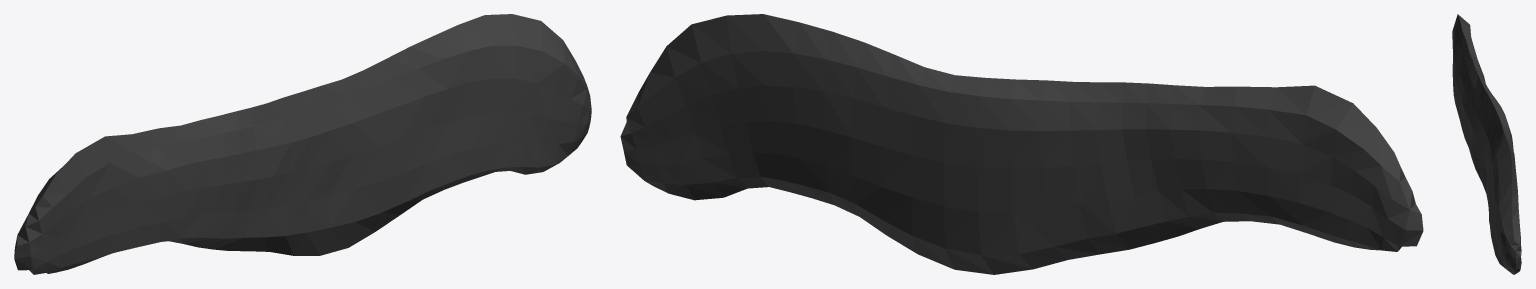
Rendered from Intermeniscal_ligament.glb.
The picture shows the model from 3 angles, left to right: view 1: azimuth 30°, elevation 25°; view 2: azimuth 150°, elevation 25°; view 3: azimuth 270°, elevation 25°; orthographic projection. The views are drawn at different scales.
Parts seen in each view (by area): view 1: Intermeniscal_ligament; view 2: Intermeniscal_ligament; view 3: Intermeniscal_ligament.
Boxes of the visible parts, x1,y1,x2,y2 form: Intermeniscal_ligament: (14,14,591,274); Intermeniscal_ligament: (620,14,1423,274); Intermeniscal_ligament: (1452,14,1521,274).
Size of the model in its own units: 0.1614 by 0.0493 by 0.0256.
Materials: 1 (1 with a texture image).
